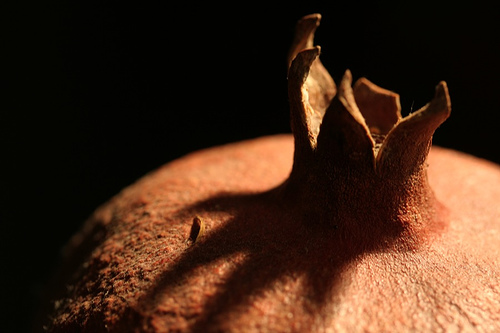pomogranate: (32, 15, 499, 332)
